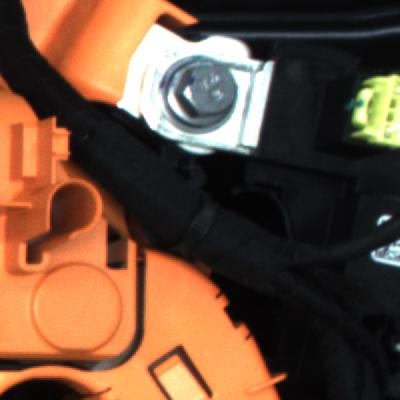nut_b: (167, 59, 256, 124)
